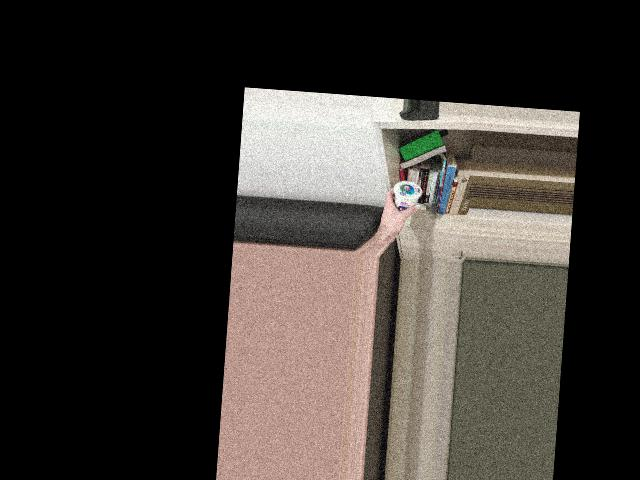cotage: (388, 178, 423, 217)
